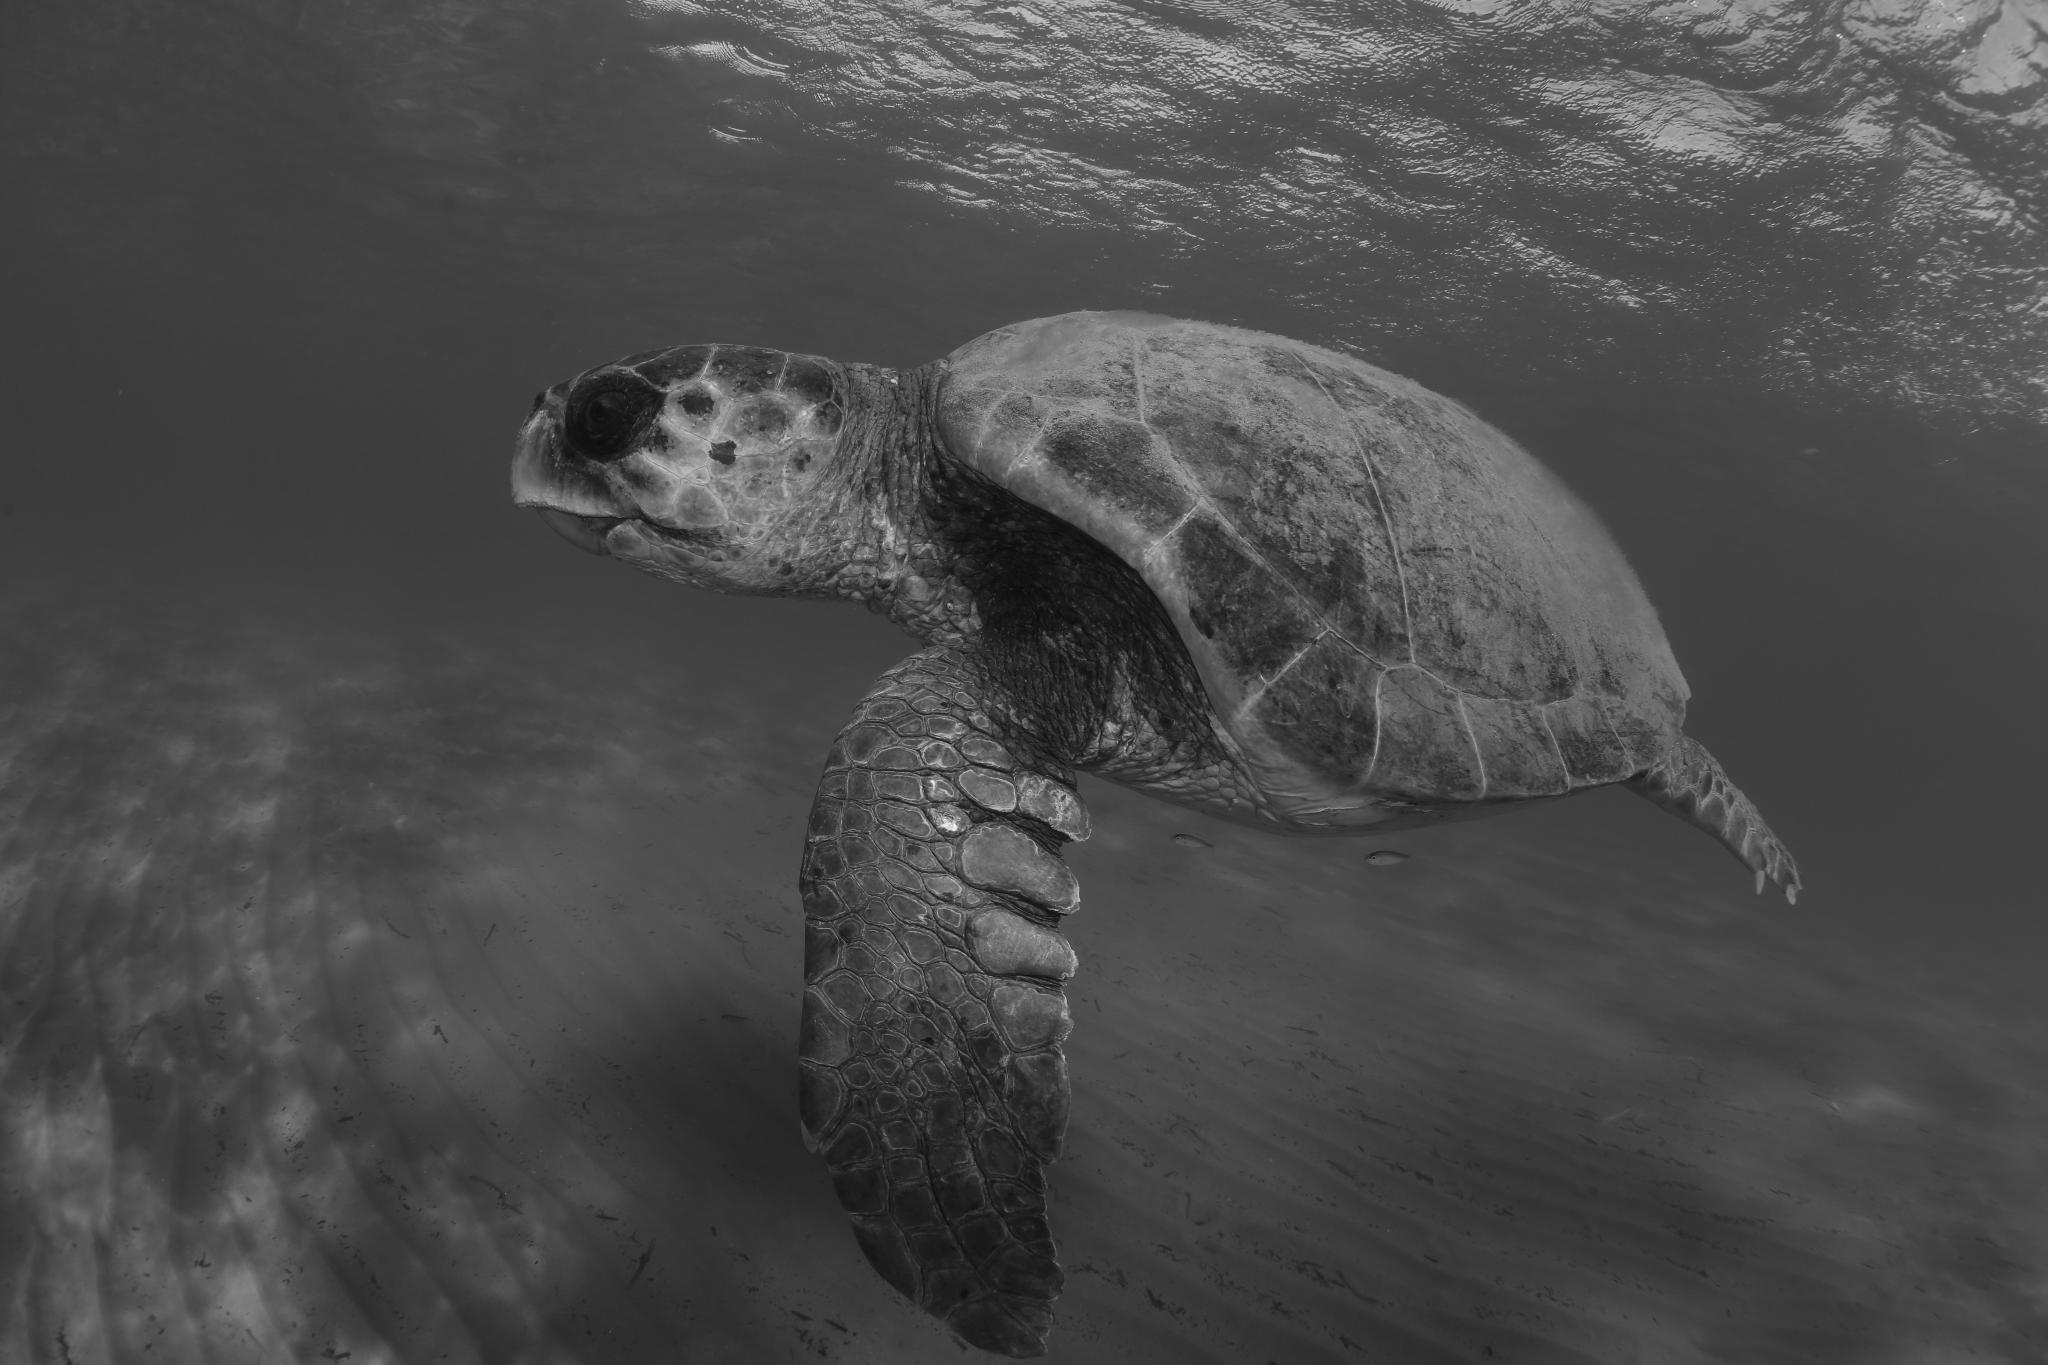Head: (511, 345, 911, 612)
